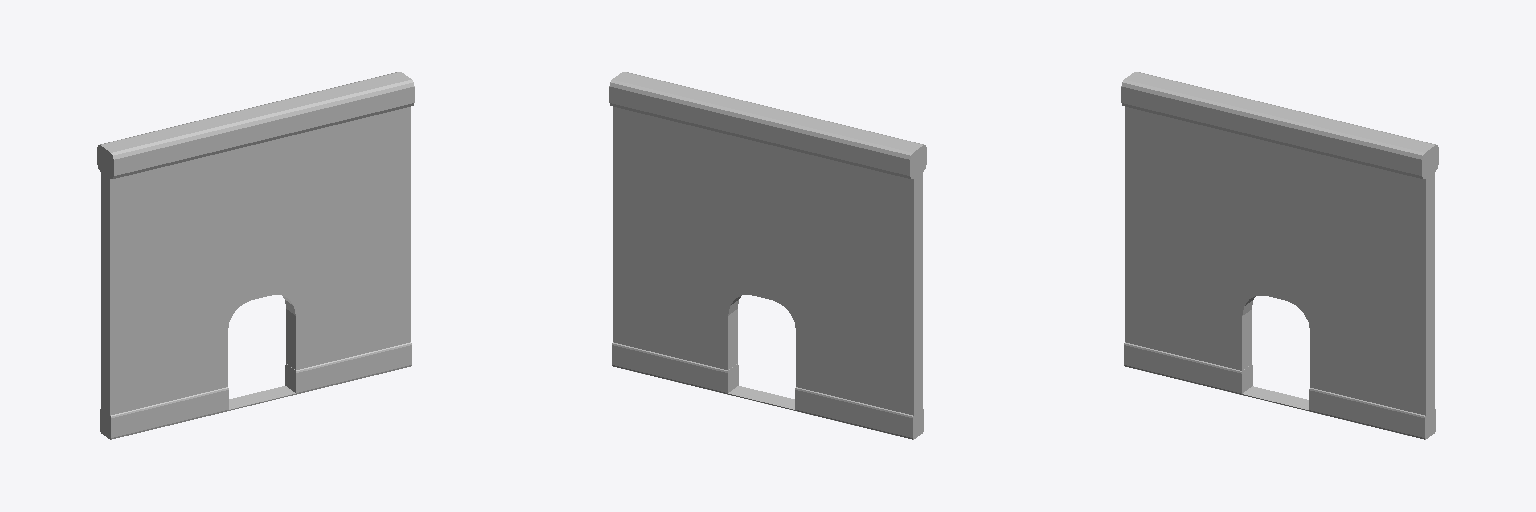
The model's file is modular_doorway2x.obj.
3 renders of one model, left to right at view 1: azimuth 30°, elevation 25°; view 2: azimuth 150°, elevation 25°; view 3: azimuth 330°, elevation 25°, orthographic.
Parts seen in each view (by area): view 1: modular_doorway.001_Cube.002; view 2: modular_doorway.001_Cube.002; view 3: modular_doorway.001_Cube.002.
Boxes of the visible parts, x1,y1,x2,y2 form: modular_doorway.001_Cube.002: [97, 72, 414, 439]; modular_doorway.001_Cube.002: [609, 72, 926, 439]; modular_doorway.001_Cube.002: [1121, 72, 1438, 439].
Bounding box in the file's own units: 18.59 × 16.98 × 1.75.